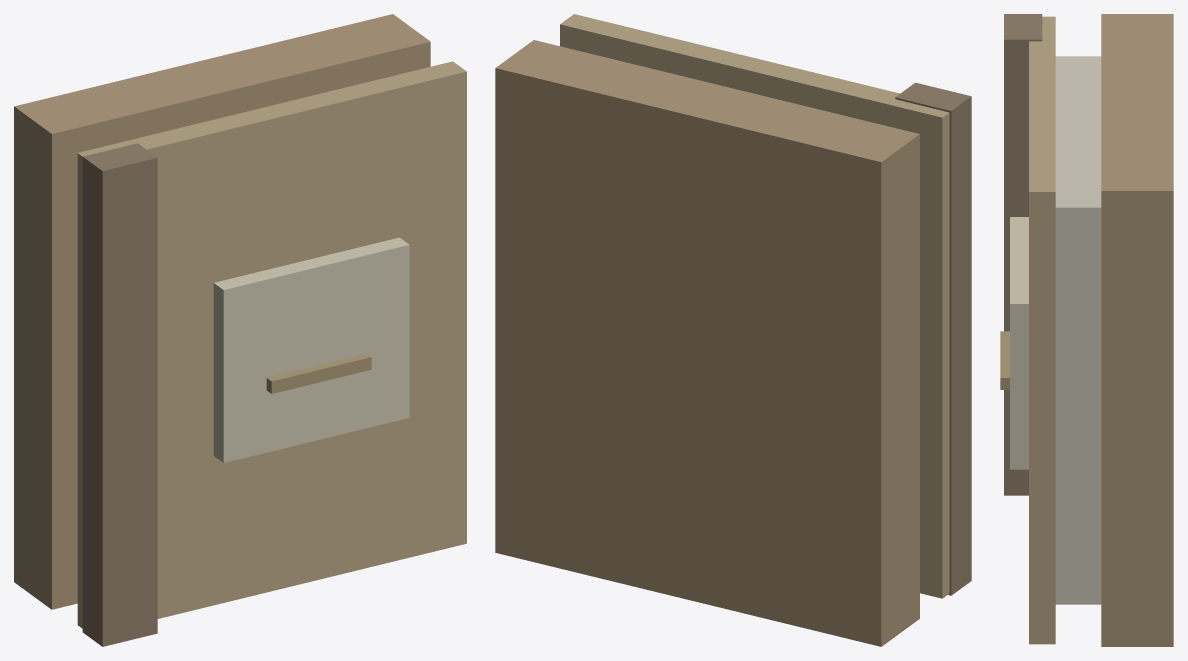
File: material_book.glb
3 renders of one model, left to right at view 1: azimuth 30°, elevation 25°; view 2: azimuth 150°, elevation 25°; view 3: azimuth 270°, elevation 25°, orthographic. The views are drawn at different scales.
Visible parts, largest first — view 1: material_book; view 2: material_book; view 3: material_book.
Part boxes in pixels (box(x1,y1,x2,y2)): material_book: box(14, 14, 466, 646); material_book: box(495, 14, 971, 646); material_book: box(1000, 14, 1173, 646).
Bounding box in the file's own units: 1.1 × 1.32 × 0.455.
